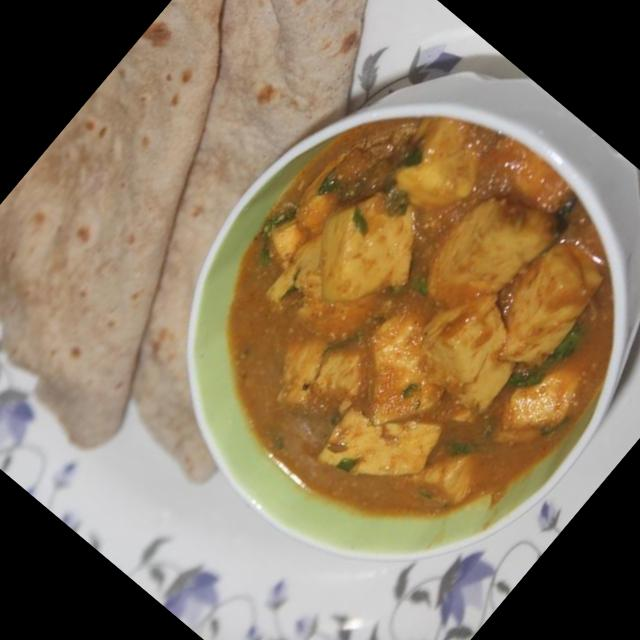roti: (0, 0, 423, 347)
